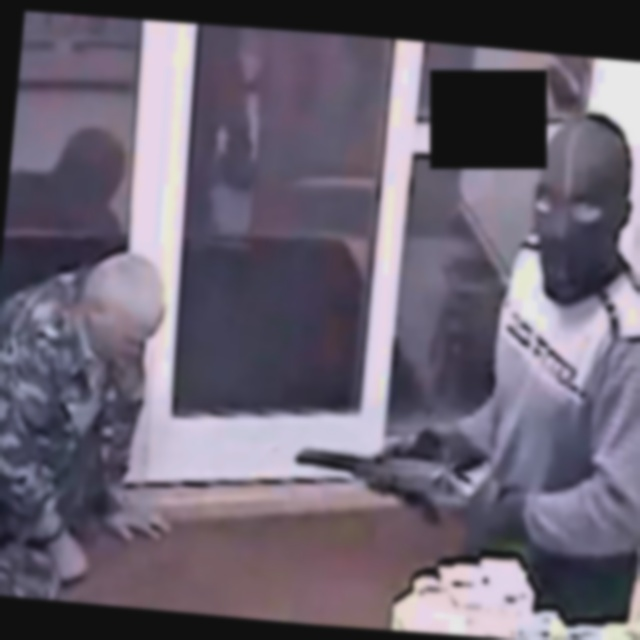gun: (268, 419, 495, 543)
